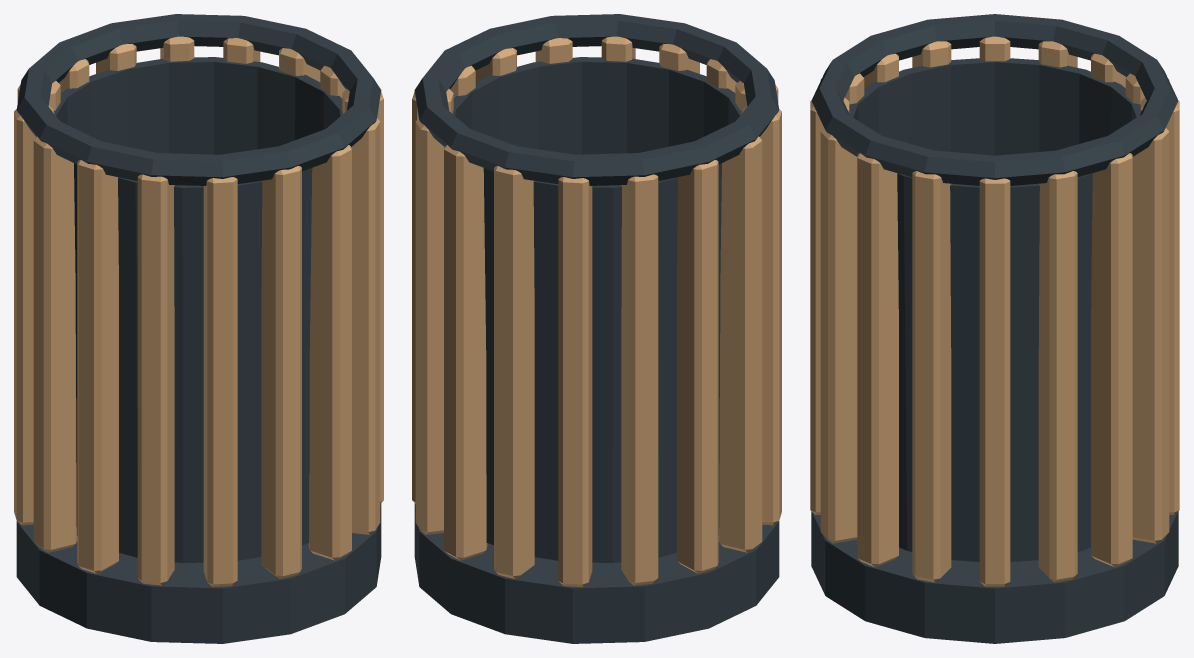
Rendered from Park_Trash_Bin.glb.
The picture shows the model from 3 angles, left to right: view 1: azimuth 30°, elevation 25°; view 2: azimuth 150°, elevation 25°; view 3: azimuth 270°, elevation 25°; orthographic projection.
Parts seen in each view (by area): view 1: Park_Trash_Bin; view 2: Park_Trash_Bin; view 3: Park_Trash_Bin.
Part boxes in pixels (x1,y1,x2,y2): Park_Trash_Bin: (14,14,383,643); Park_Trash_Bin: (412,14,781,643); Park_Trash_Bin: (810,14,1179,643).
Bounding box in the file's own units: 0.604 × 0.8625 × 0.604.
